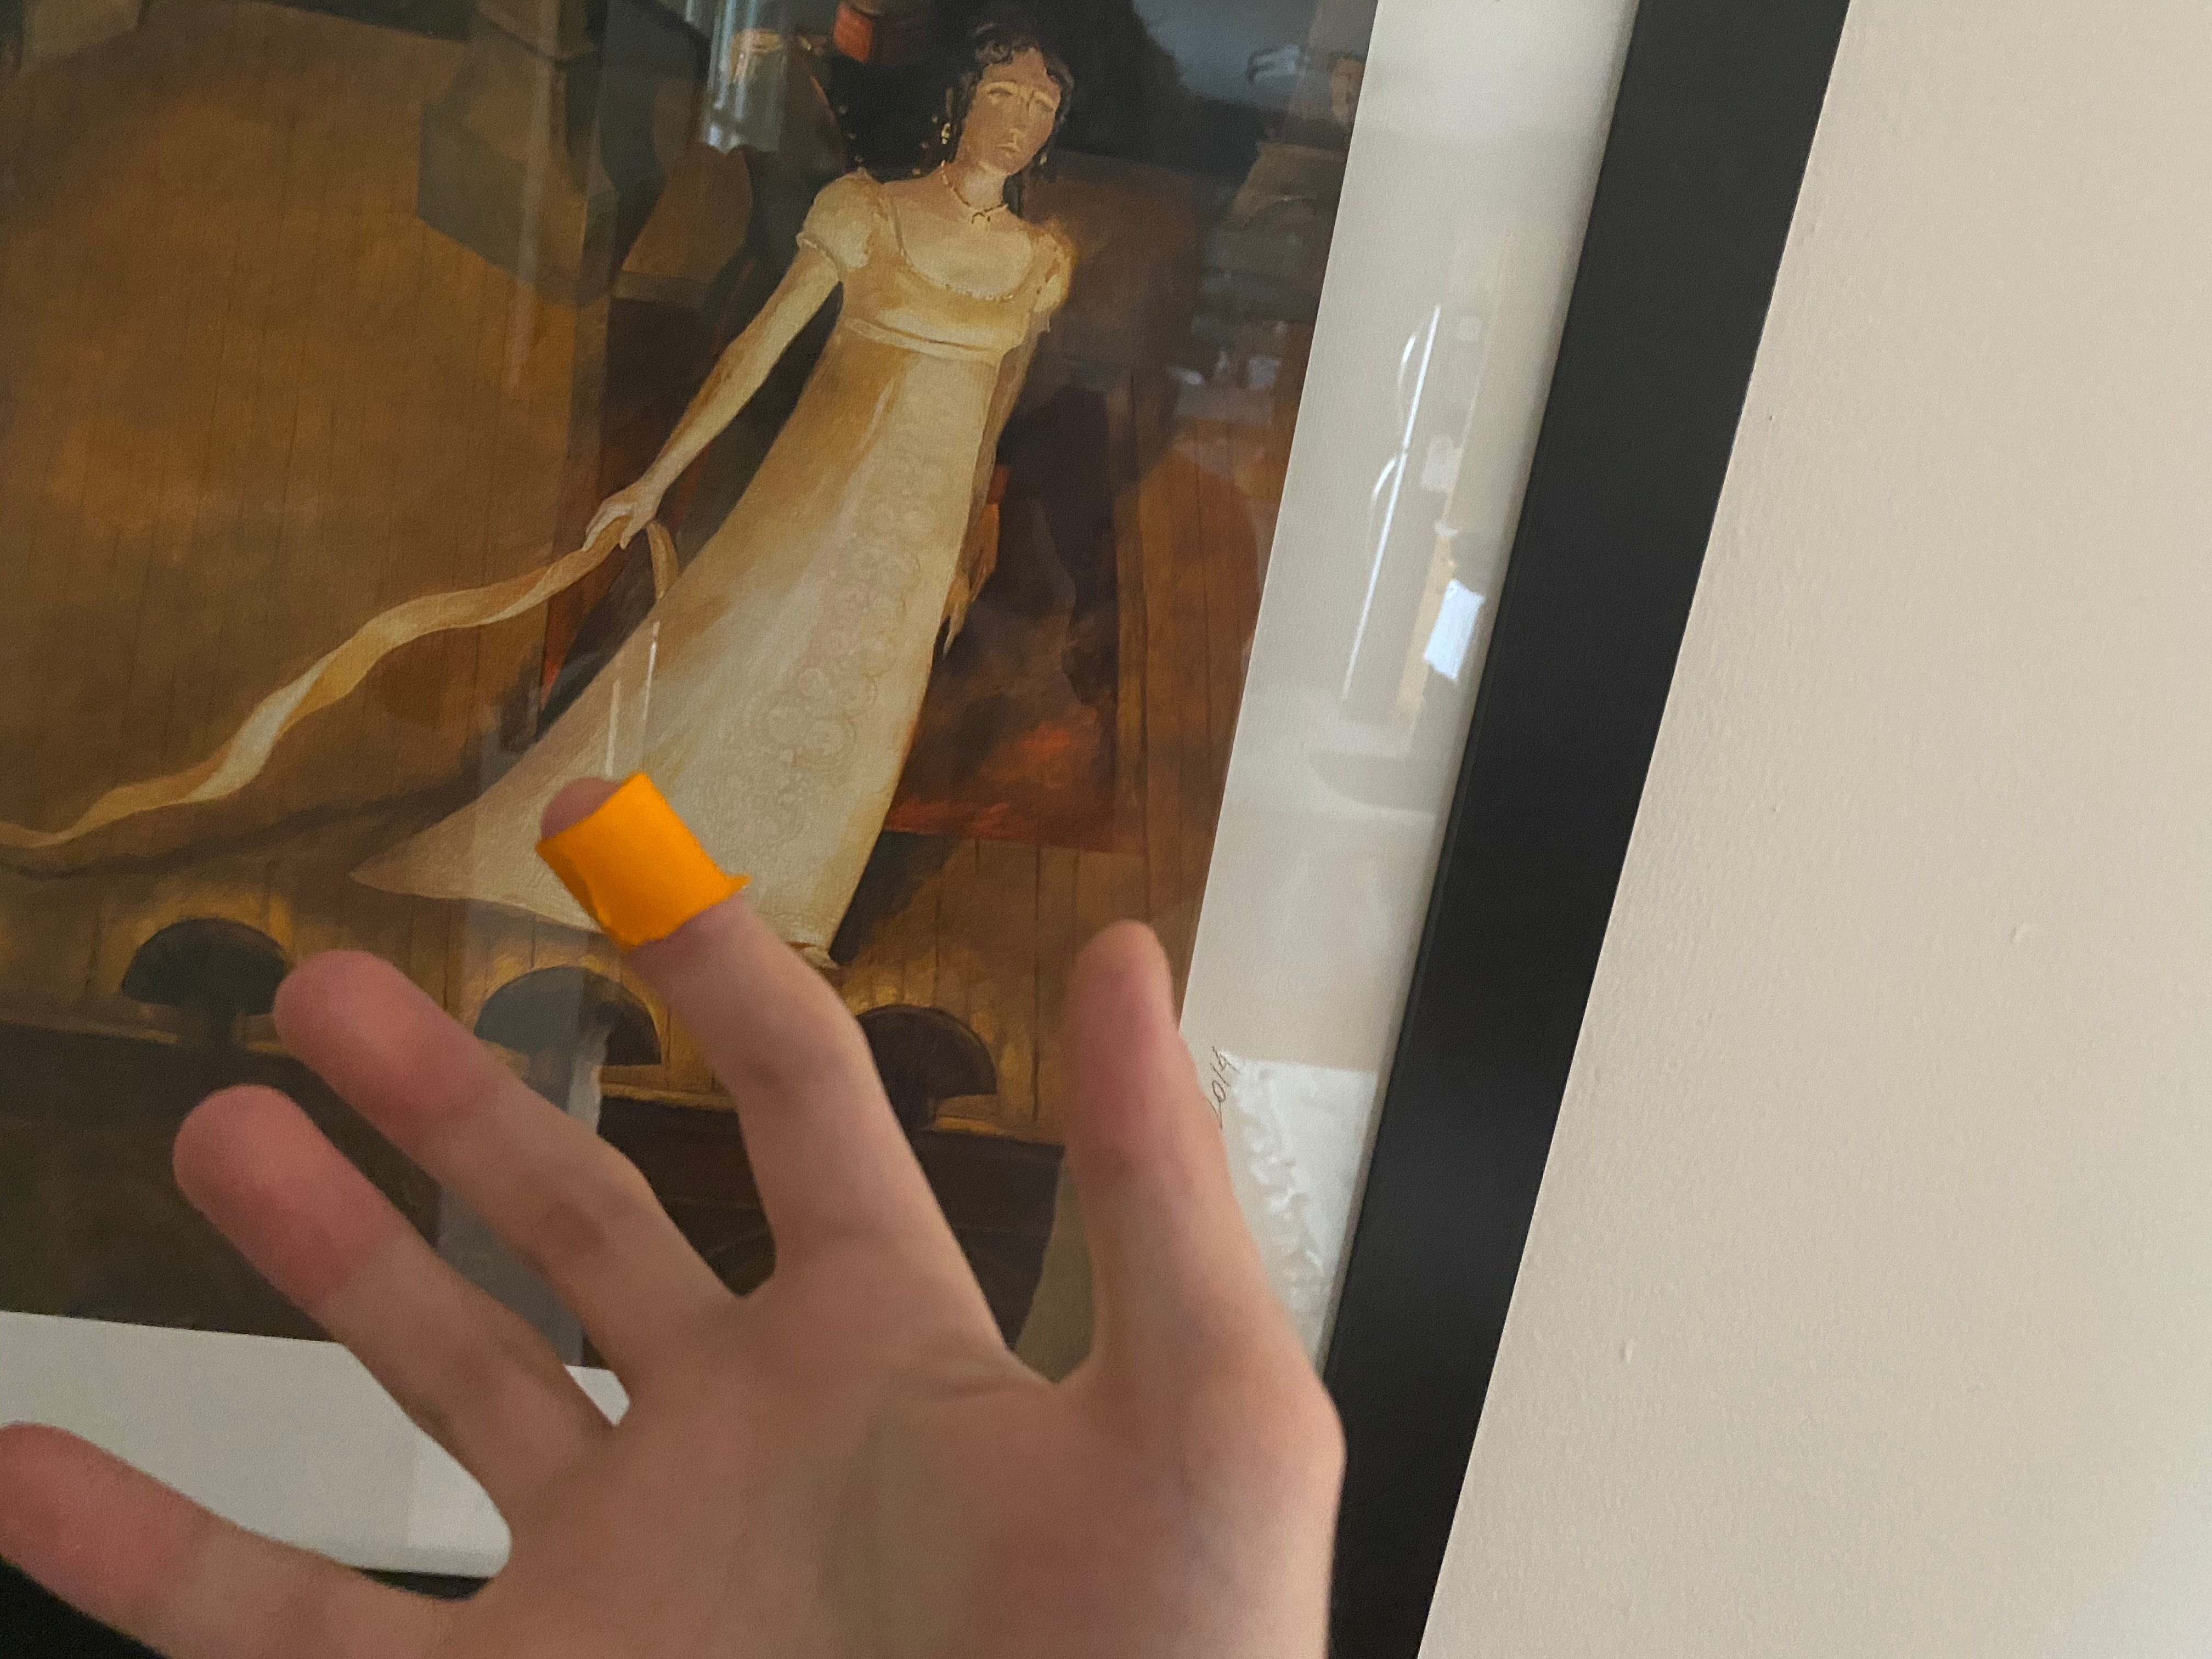fingertip: (509, 758, 759, 983)
